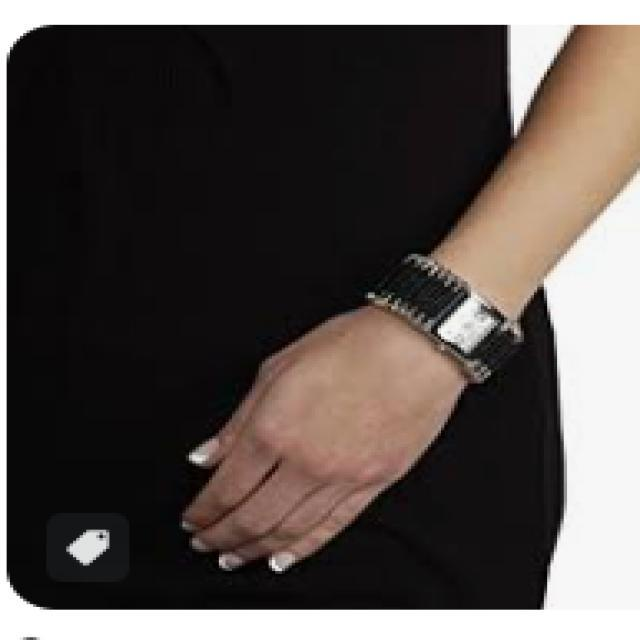Watch: (360, 252, 528, 384)
